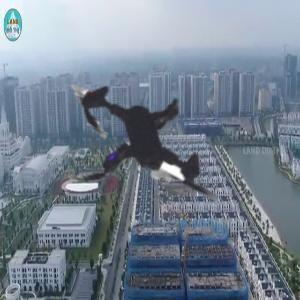drone: (1, 9, 286, 294)
